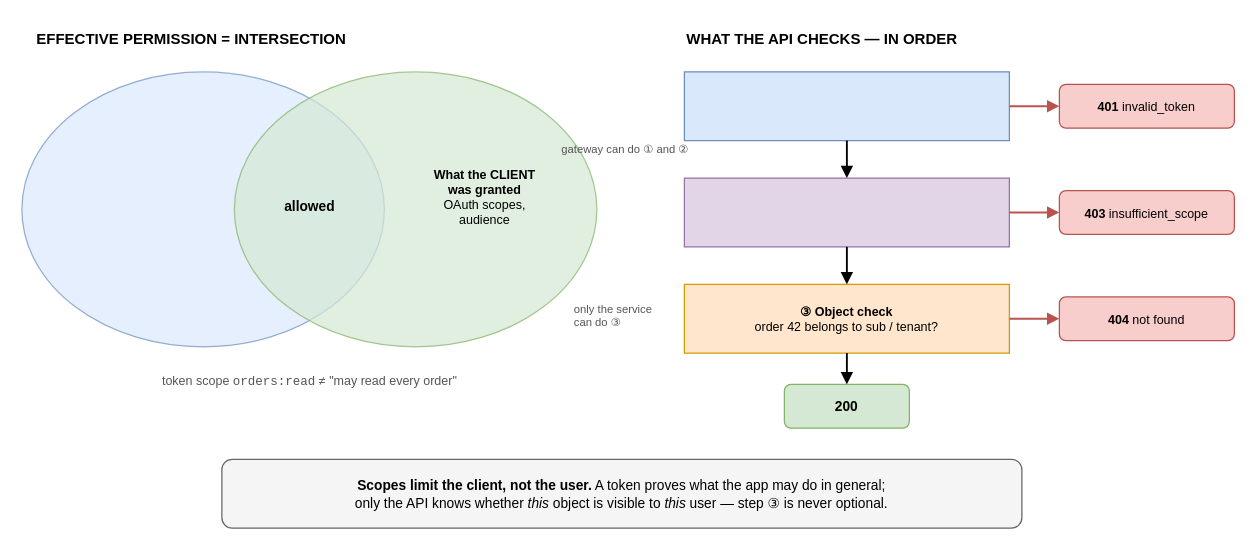
Some shapes in this 1256 by 550 pixel diagram are drawn without their labels. Each missing label, with the centre of its shape:
What the USER may do roles, ownership, tenant, relations: (x=202, y=209)
① Verify the token signature · iss · exp · aud: (x=846, y=106)
② Scope / role check orders:read in token scope?: (x=846, y=212)
